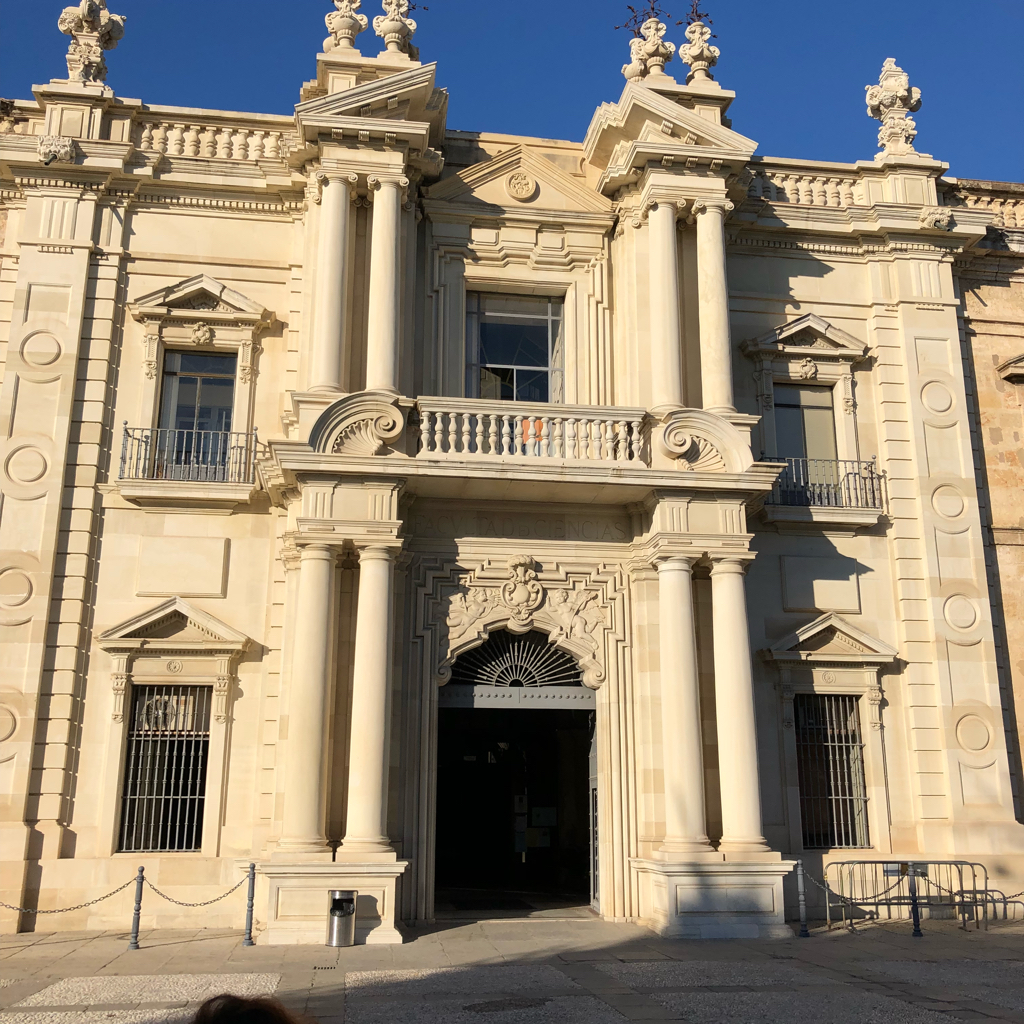fronton: (418, 142, 622, 227), (98, 597, 250, 655), (760, 608, 901, 670), (126, 270, 269, 329), (747, 312, 869, 363)
fronton-partido: (288, 55, 766, 172), (308, 389, 755, 490)
vano-adintelado: (452, 269, 582, 465), (106, 671, 231, 858), (772, 683, 894, 851), (139, 332, 252, 480), (752, 369, 863, 508)
